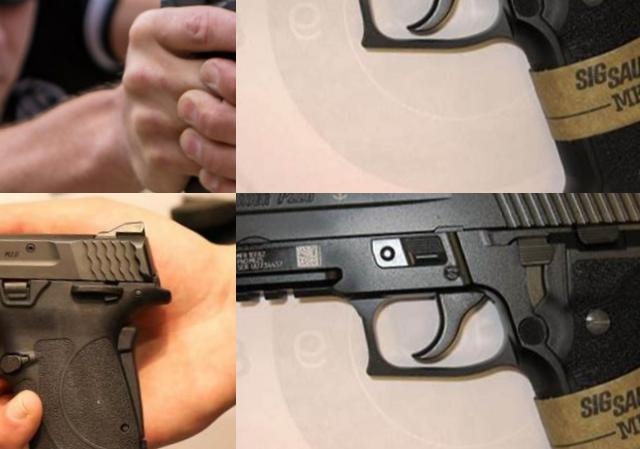handgun: (236, 193, 640, 449), (236, 0, 640, 193), (0, 193, 211, 449), (148, 0, 236, 193)
